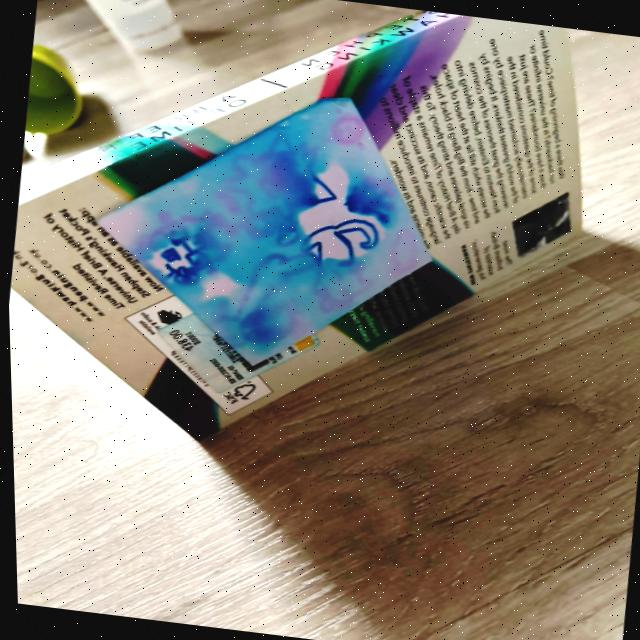Book: (9, 10, 580, 439)
